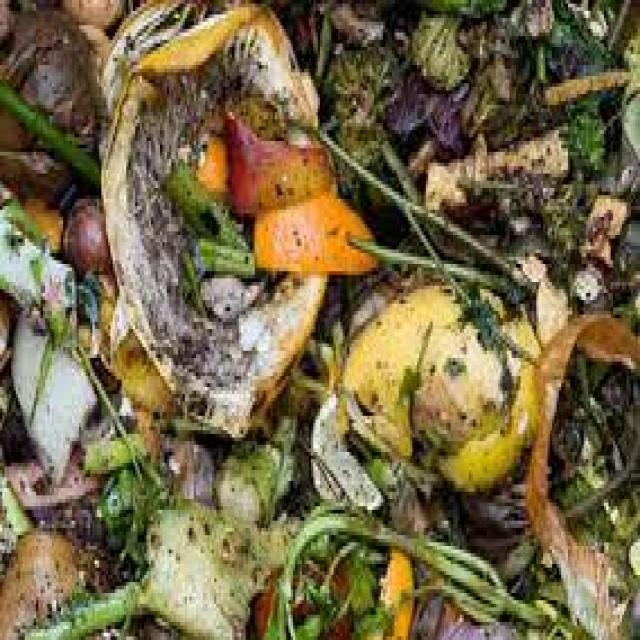Organik: (0, 0, 638, 640), (345, 268, 550, 484), (273, 495, 556, 640), (214, 97, 382, 300), (130, 484, 270, 640), (330, 34, 484, 174), (58, 181, 139, 282)
